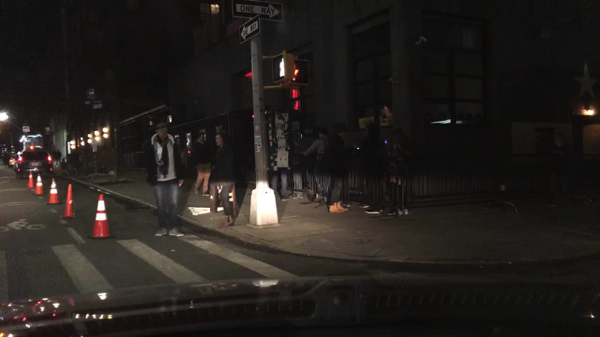car: (14, 145, 54, 181), (8, 154, 18, 167)
person: (142, 122, 186, 239), (205, 130, 236, 229), (352, 122, 384, 212), (324, 123, 354, 214), (383, 130, 411, 215), (545, 132, 576, 207), (299, 128, 328, 203), (191, 132, 211, 198), (288, 132, 304, 199), (271, 169, 289, 203), (2, 150, 10, 167), (56, 147, 62, 161), (49, 147, 57, 157)
traffic light: (270, 52, 294, 83), (287, 59, 310, 87)
traffic sign: (231, 0, 283, 21), (237, 15, 259, 43), (85, 87, 98, 101), (86, 101, 104, 110), (22, 125, 32, 134)
